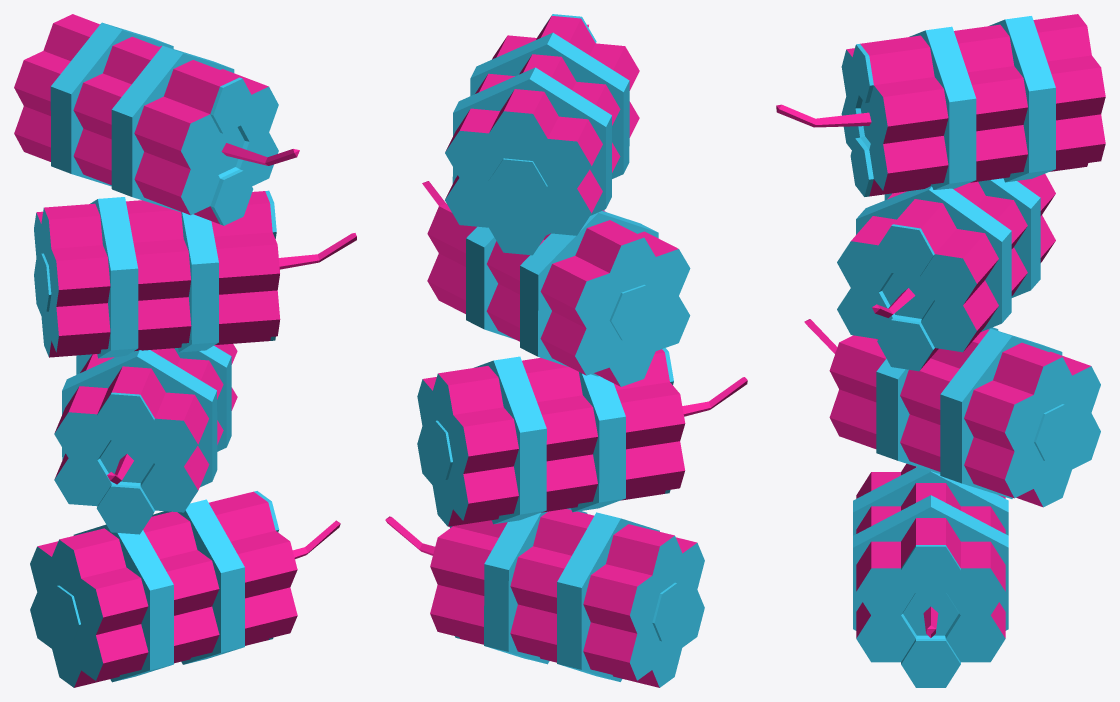
Rendered from 042_Dynamite.fbx.
3 renders of one model, left to right at view 1: azimuth 30°, elevation 25°; view 2: azimuth 150°, elevation 25°; view 3: azimuth 270°, elevation 25°, orthographic. The views are drawn at different scales.
Parts seen in each view (by area): view 1: DYNAMITE1; view 2: DYNAMITE1; view 3: DYNAMITE1.
Part boxes in pixels (box(x1,y1,x2,y2)): DYNAMITE1: box(14, 14, 356, 687); DYNAMITE1: box(385, 14, 747, 687); DYNAMITE1: box(776, 14, 1105, 687).
Size of the model in its own units: 50.94 by 102 by 48.79.
